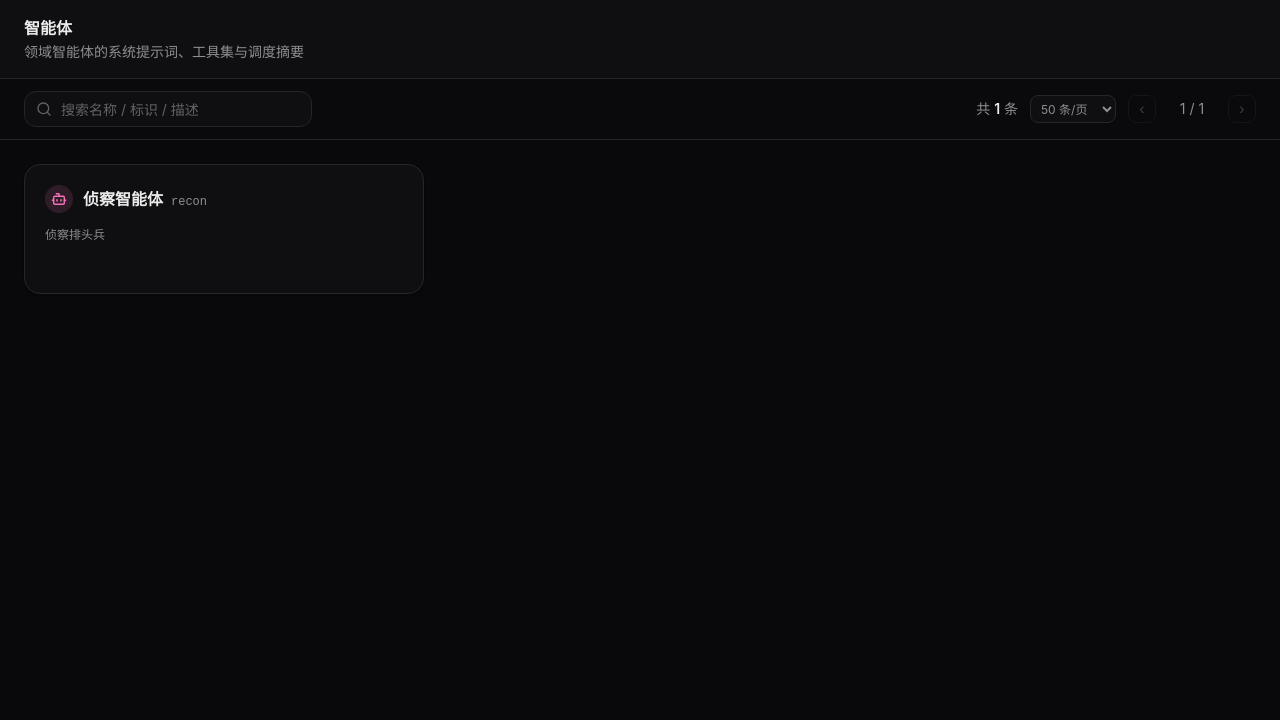
Test case: AgentsPage › 有未保存更改时关闭需确认：拒绝则留、确认则弃
Click the button "侦察智能体".
click(123, 199)  # box top-left (24, 164), bottom-right (424, 294)
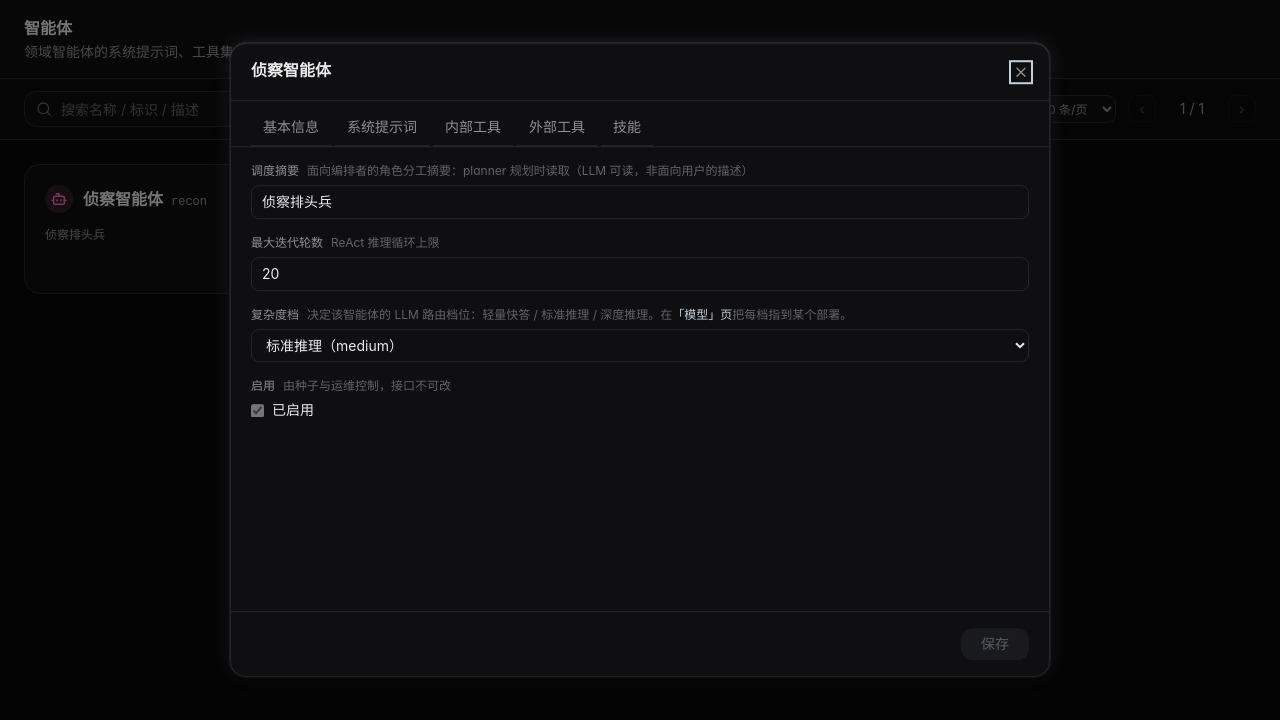
Expected: the dialog is shown, top-left (230, 43), bottom-right (1050, 677)
Click the tab "内部工具".
click(473, 128)  # box top-left (433, 109), bottom-right (513, 147)
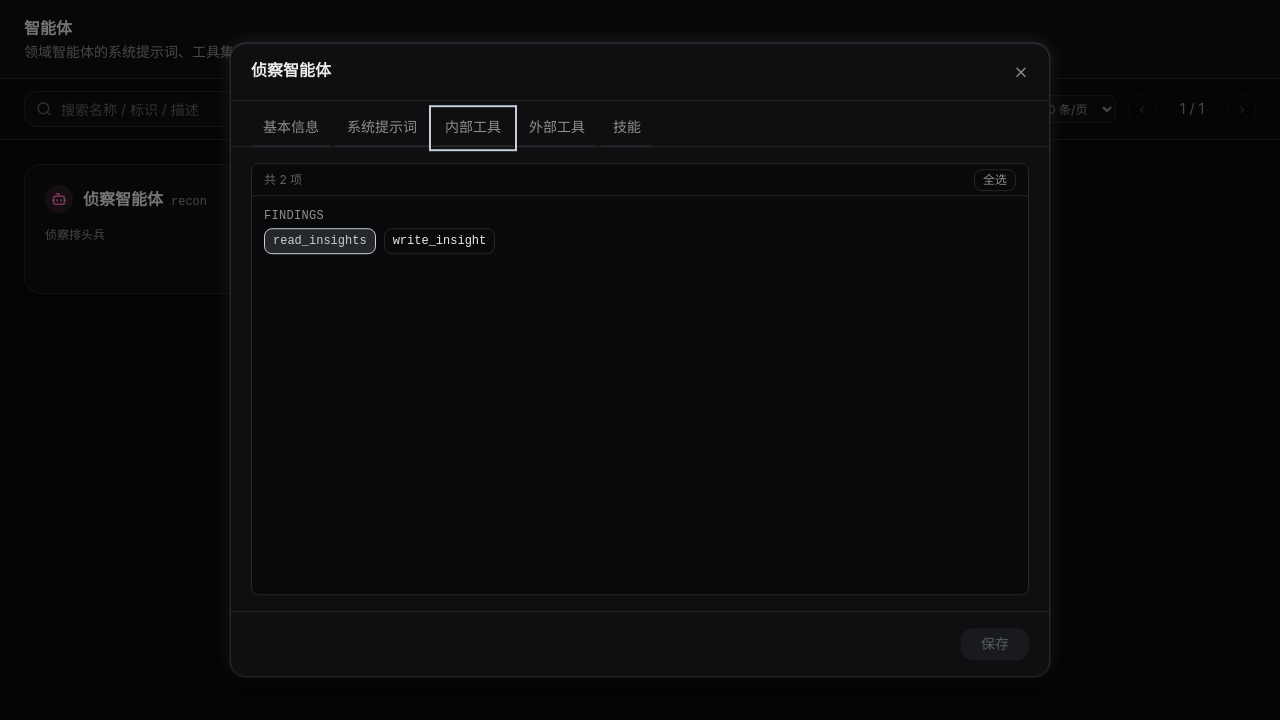
Click the button "write_insight".
click(439, 241)  # box top-left (384, 228), bottom-right (495, 254)
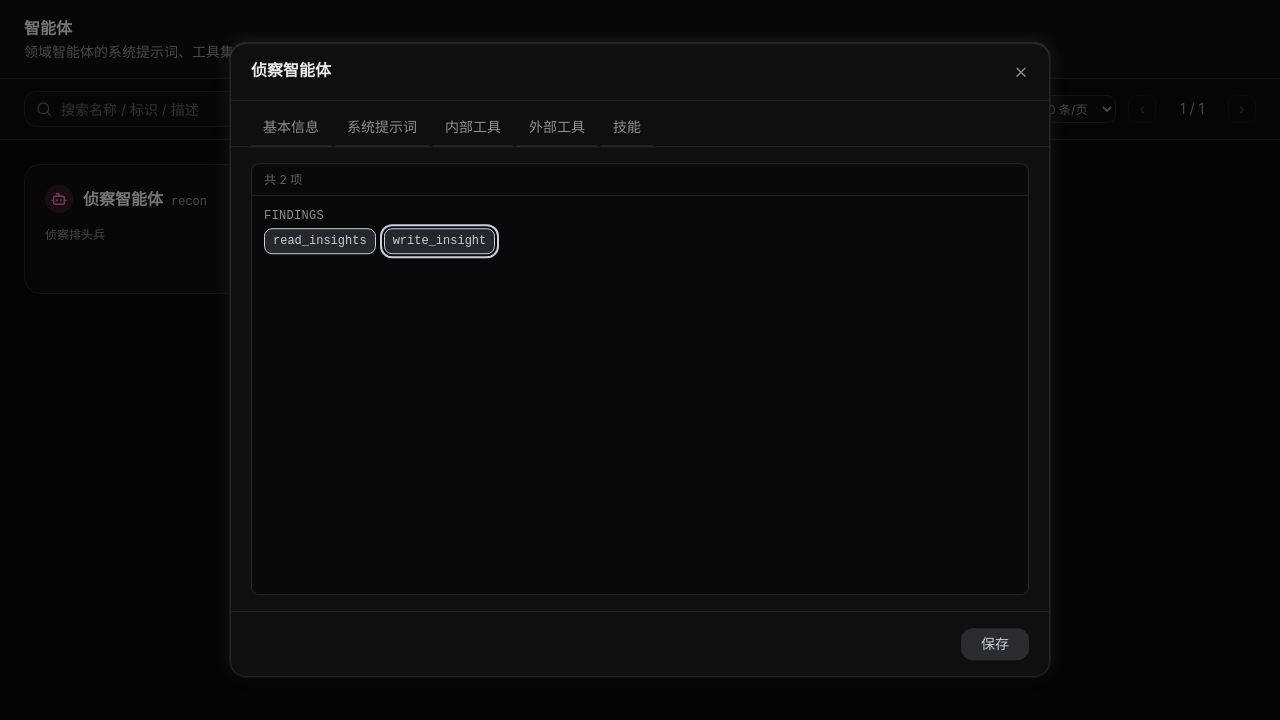
Click the button named "关闭".
click(1021, 72)  # box top-left (1013, 64), bottom-right (1029, 80)
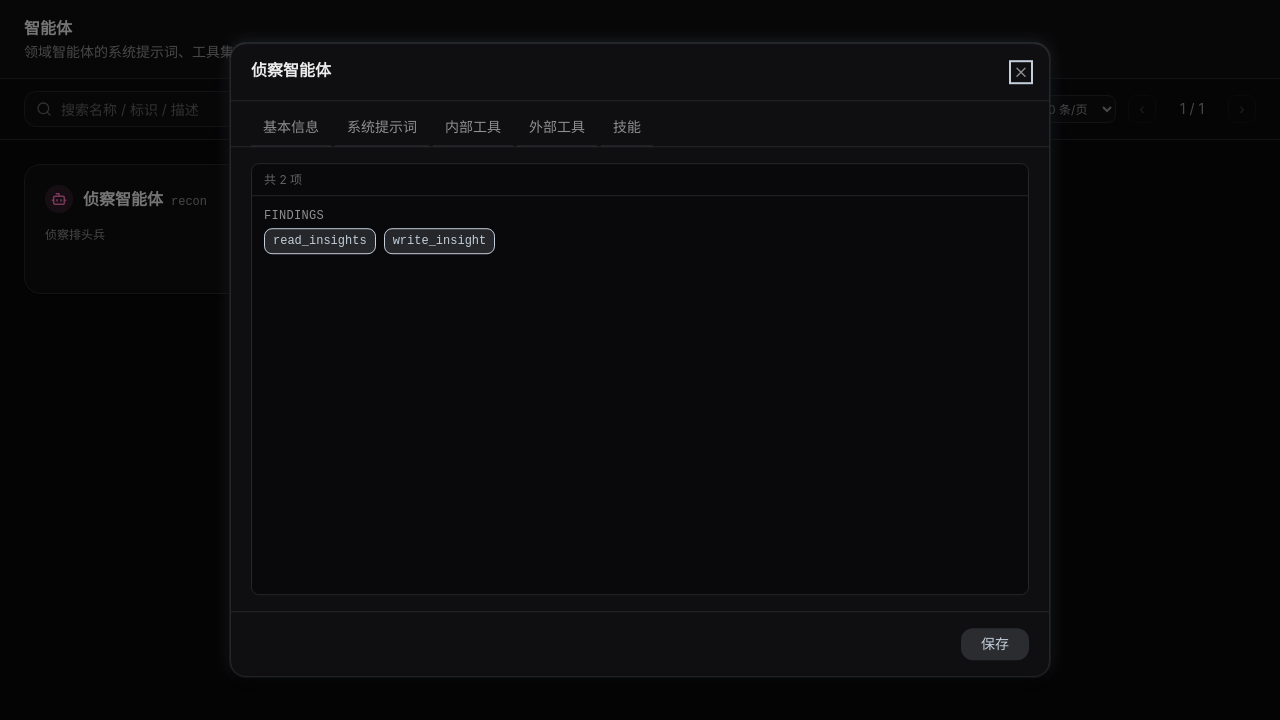
Expected: the dialog is shown, top-left (230, 43), bottom-right (1050, 677)
Click the button named "关闭".
click(1021, 72)  # box top-left (1013, 64), bottom-right (1029, 80)
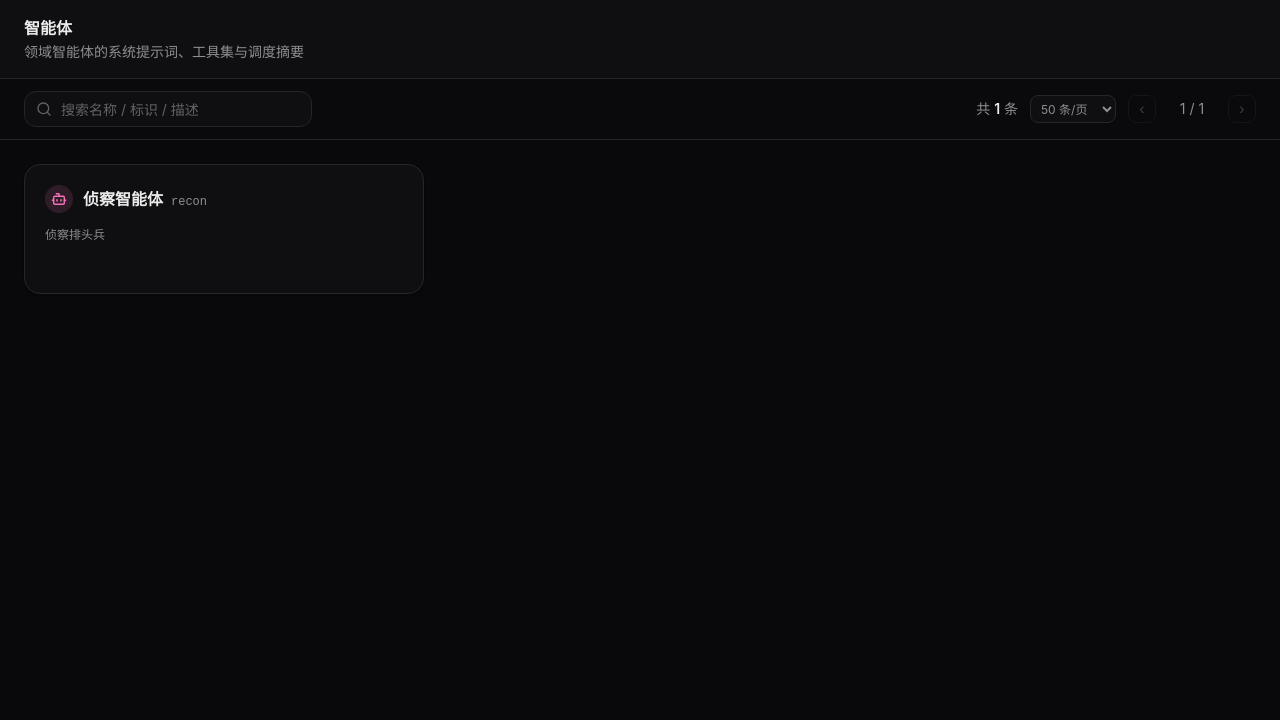
Expected: the dialog is gone
